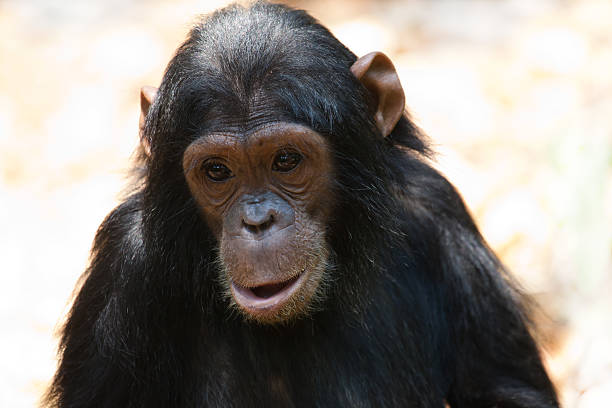chimpanzee: (105, 3, 428, 333)
